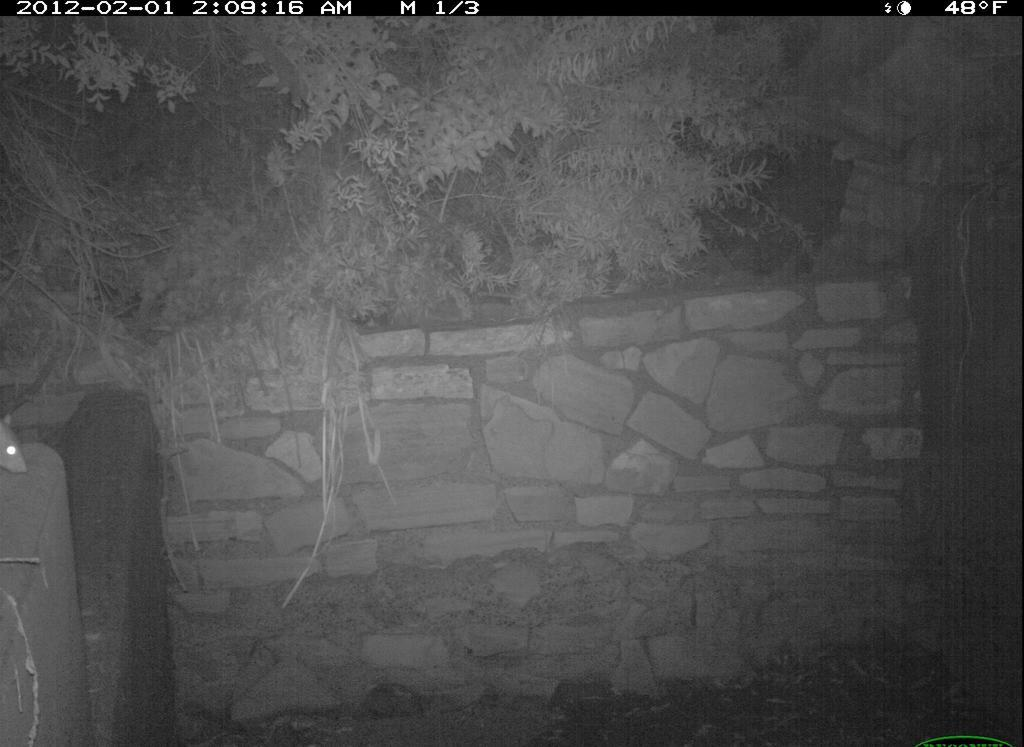rodent: (3, 400, 41, 493)
